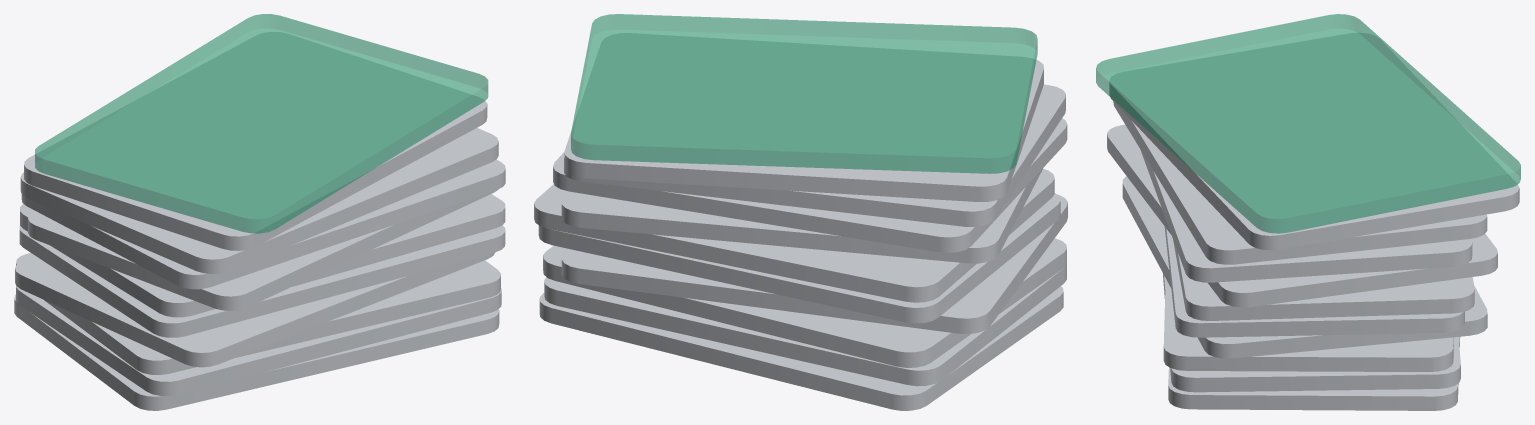
File: prop-stack.glb
3 renders of one model, left to right at view 1: azimuth 30°, elevation 25°; view 2: azimuth 150°, elevation 25°; view 3: azimuth 270°, elevation 25°, orthographic. The views are drawn at different scales.
Visible parts, largest first — view 1: RE_Prop_Stack; view 2: RE_Prop_Stack; view 3: RE_Prop_Stack.
Boxes of the visible parts, left/top/right/bottom form: RE_Prop_Stack: left=14, top=14, right=505, bottom=410; RE_Prop_Stack: left=534, top=14, right=1067, bottom=410; RE_Prop_Stack: left=1096, top=14, right=1520, bottom=410.
Size of the model in its own units: 1.68 by 0.785 by 1.47.
